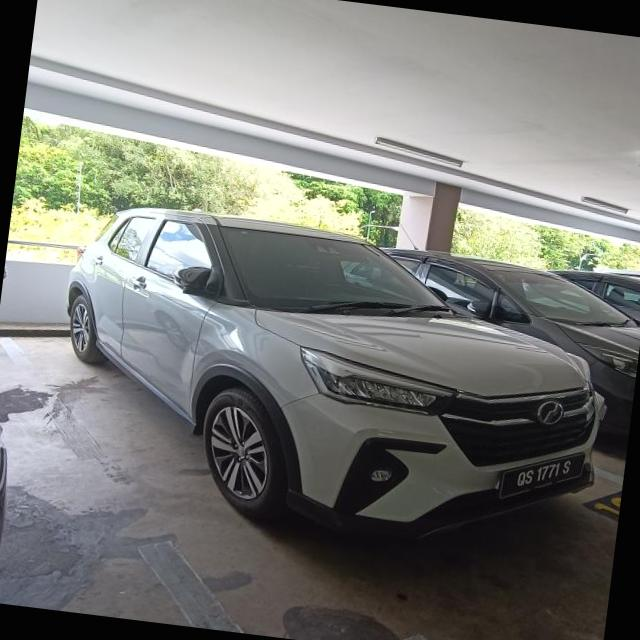PeroduaAtiva: (39, 193, 624, 563)
